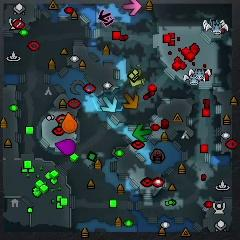p3: (55, 139, 76, 155)
p5: (61, 112, 78, 133)
x1: (123, 0, 142, 16)
x1Clone: (98, 11, 111, 22), (103, 17, 114, 27)
x2: (128, 69, 144, 87)
x3: (101, 96, 117, 112)
x4: (132, 124, 151, 141)
x5: (123, 92, 139, 109)
